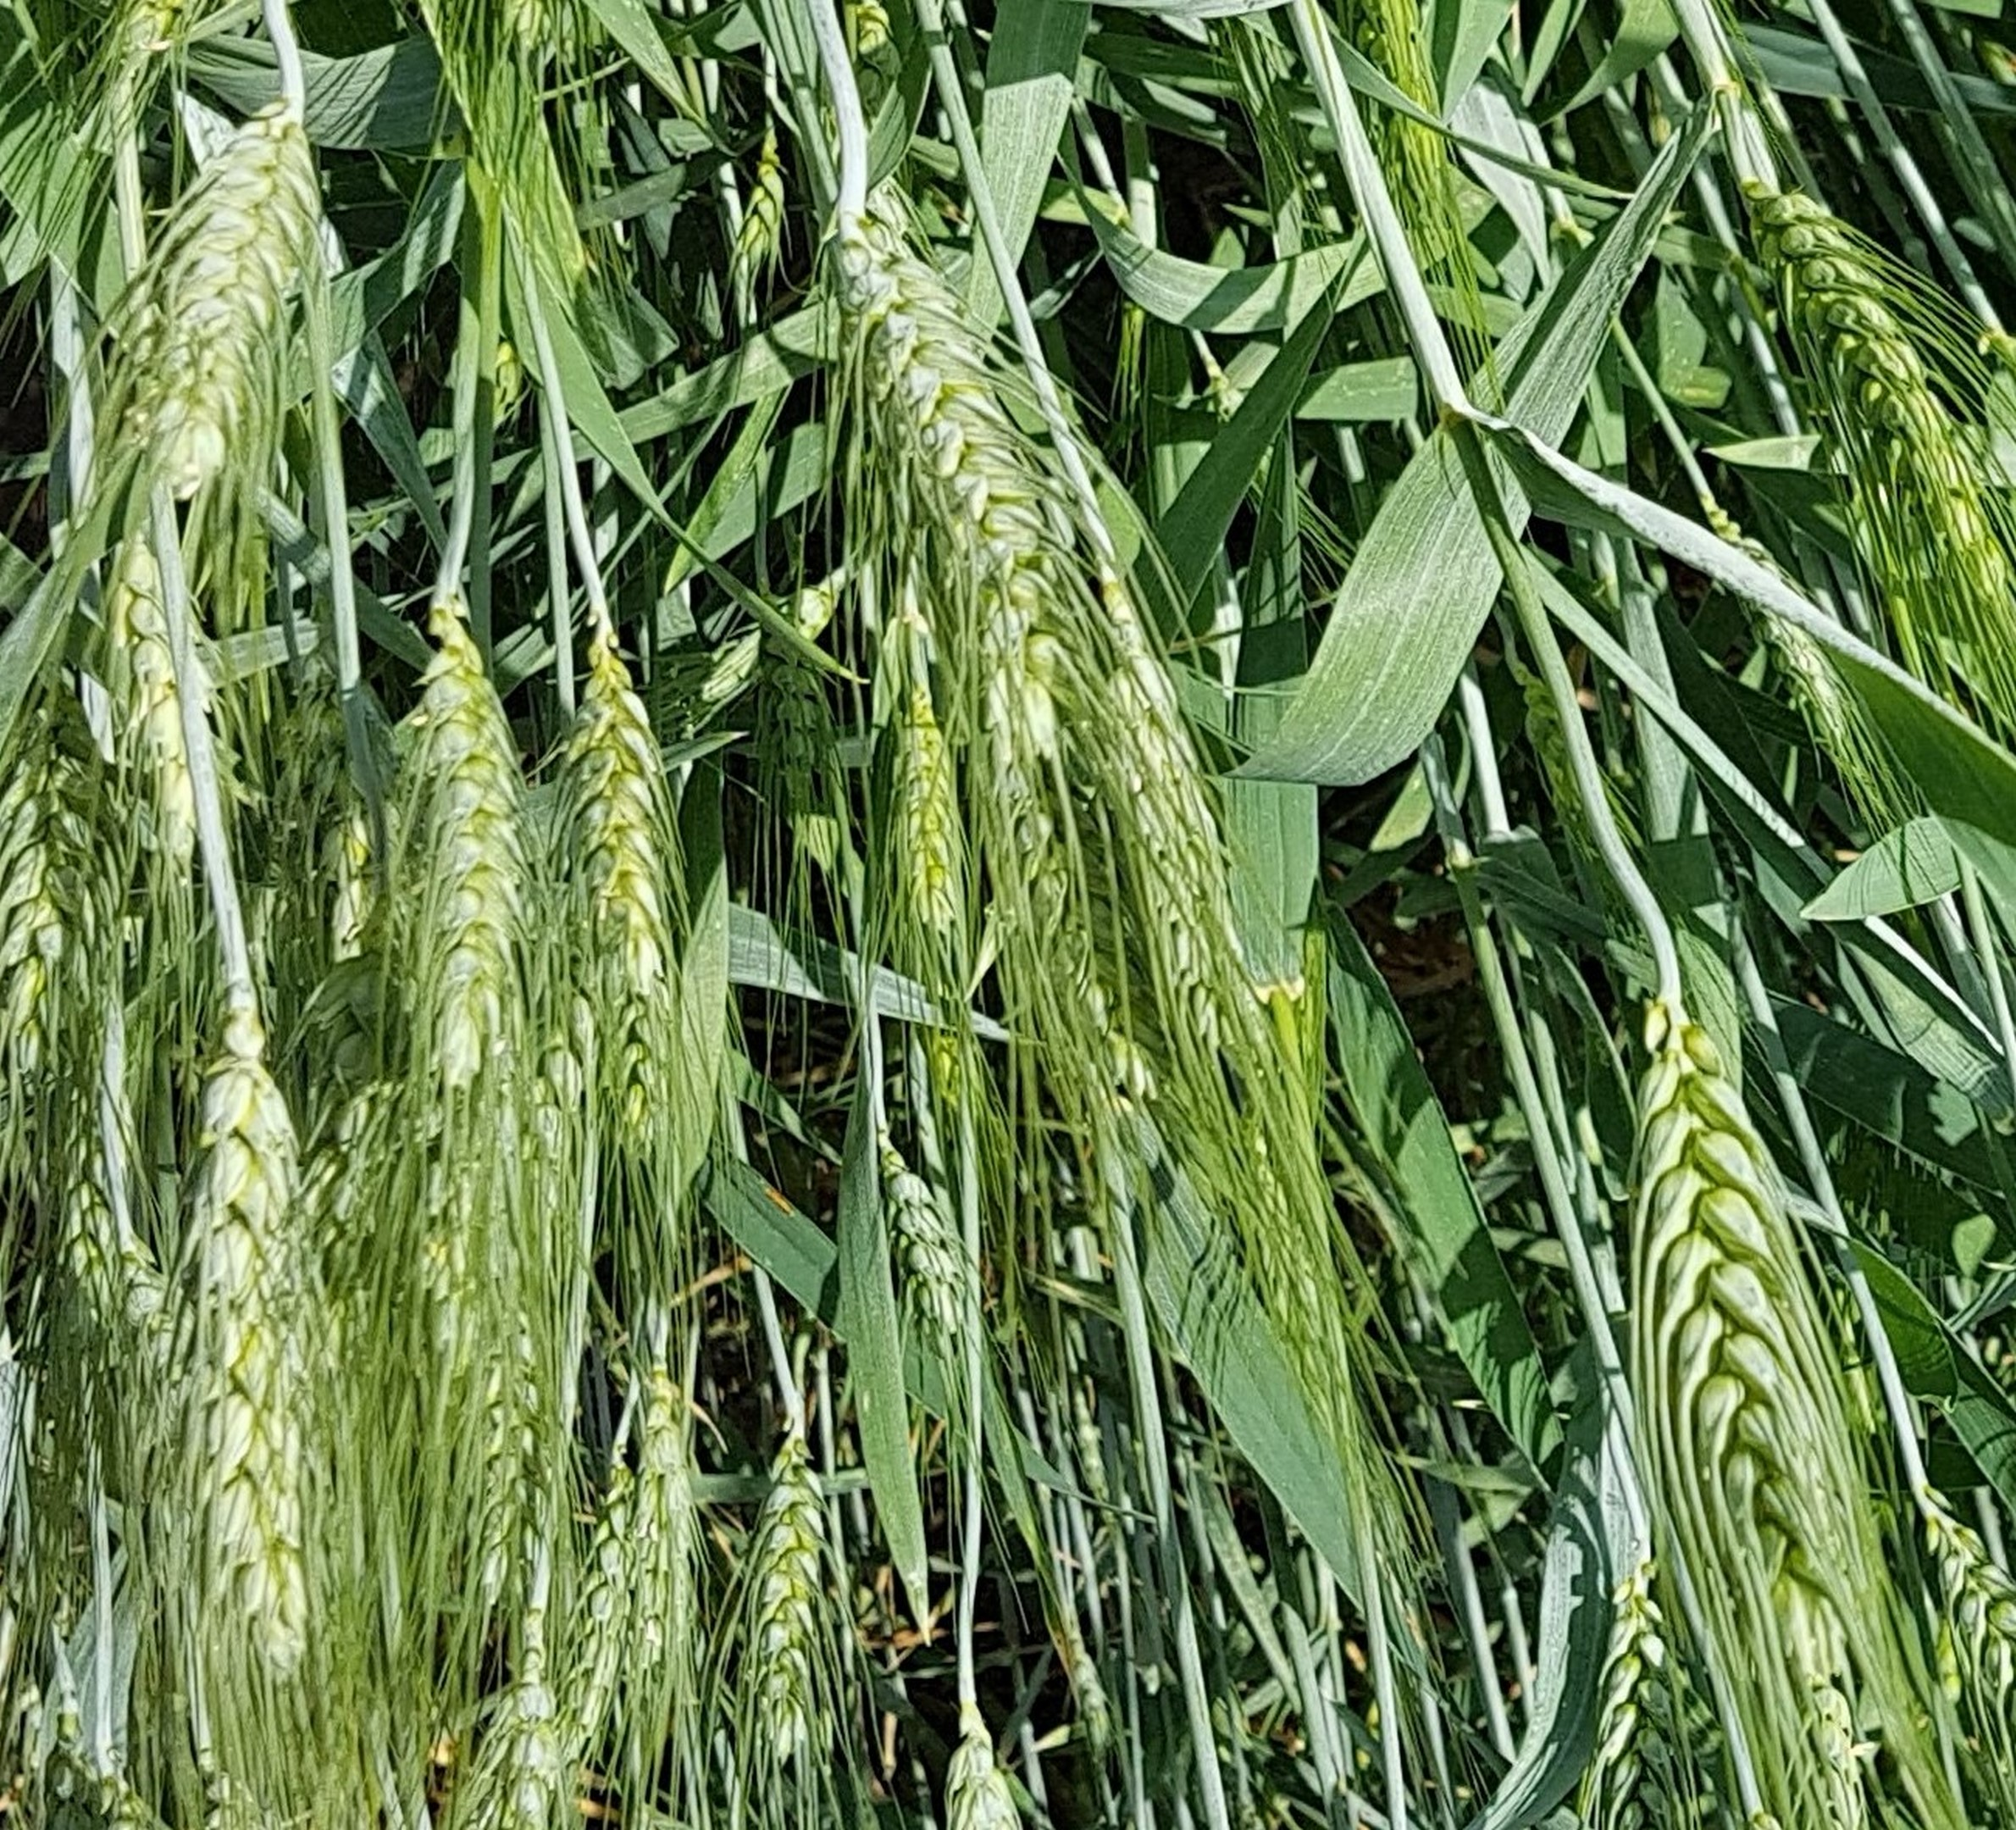Healthy Wheat: (1595, 971, 1902, 1619), (399, 602, 692, 1096), (1746, 162, 2016, 611), (88, 97, 378, 513), (801, 188, 1073, 567), (177, 1031, 342, 1644), (725, 1394, 857, 1772)
